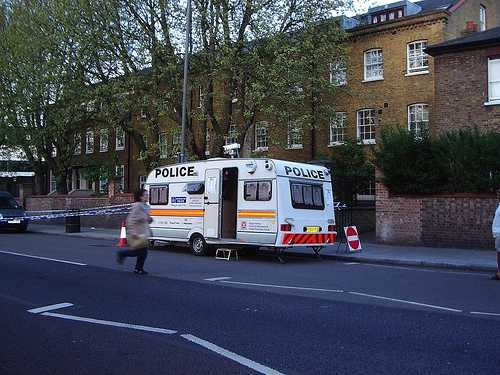Police Van: (122, 147, 336, 252)
